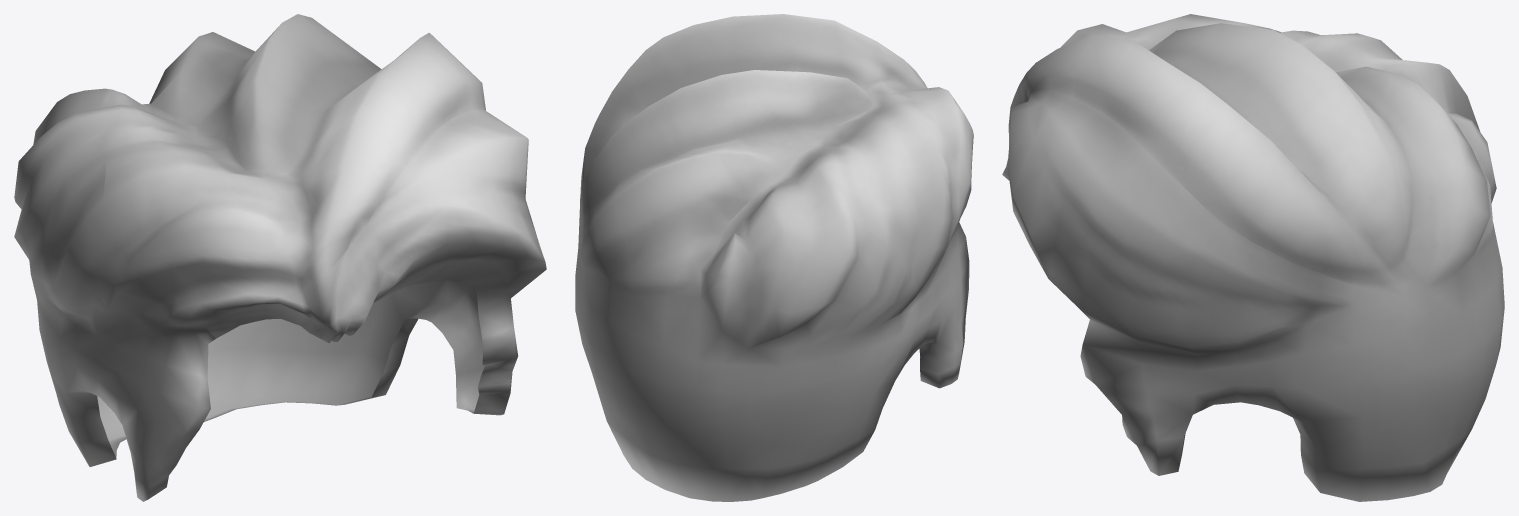
Rendered from hair_01.glb.
3 views of the same model, side by side, from view 1: azimuth 30°, elevation 25°; view 2: azimuth 150°, elevation 25°; view 3: azimuth 270°, elevation 25° (orthographic). The views are drawn at different scales.
Visible parts, largest first — view 1: hair_01; view 2: hair_01; view 3: hair_01.
Boxes of the visible parts, <box> form: hair_01: <box>14,14,546,501</box>; hair_01: <box>575,14,973,501</box>; hair_01: <box>1002,14,1504,501</box>.
Size of the model in its own units: 0.1754 by 0.1826 by 0.1857.
Materials: 1 (1 with a texture image).
